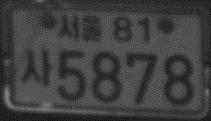1: (136, 15, 156, 43)
5: (56, 50, 86, 102)
7: (124, 52, 159, 104)
8: (162, 53, 194, 107), (91, 51, 123, 104), (112, 15, 134, 43)
사: (20, 48, 53, 85)
서울_H: (58, 14, 104, 41)
